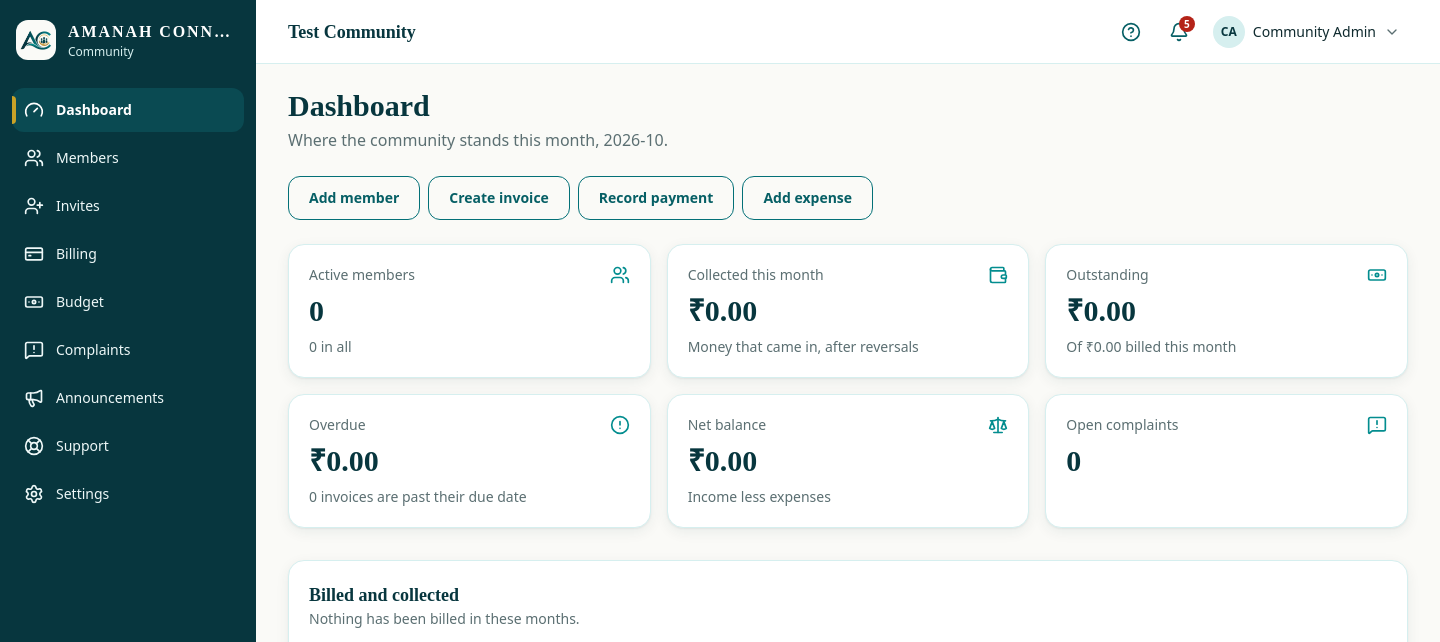
Scenario: Community shell › counts new registrations and announcements on the bell, and lists them
Click the button named "Notifications, 5 unread" at x=1179, y=32, box [1157,10,1201,54]
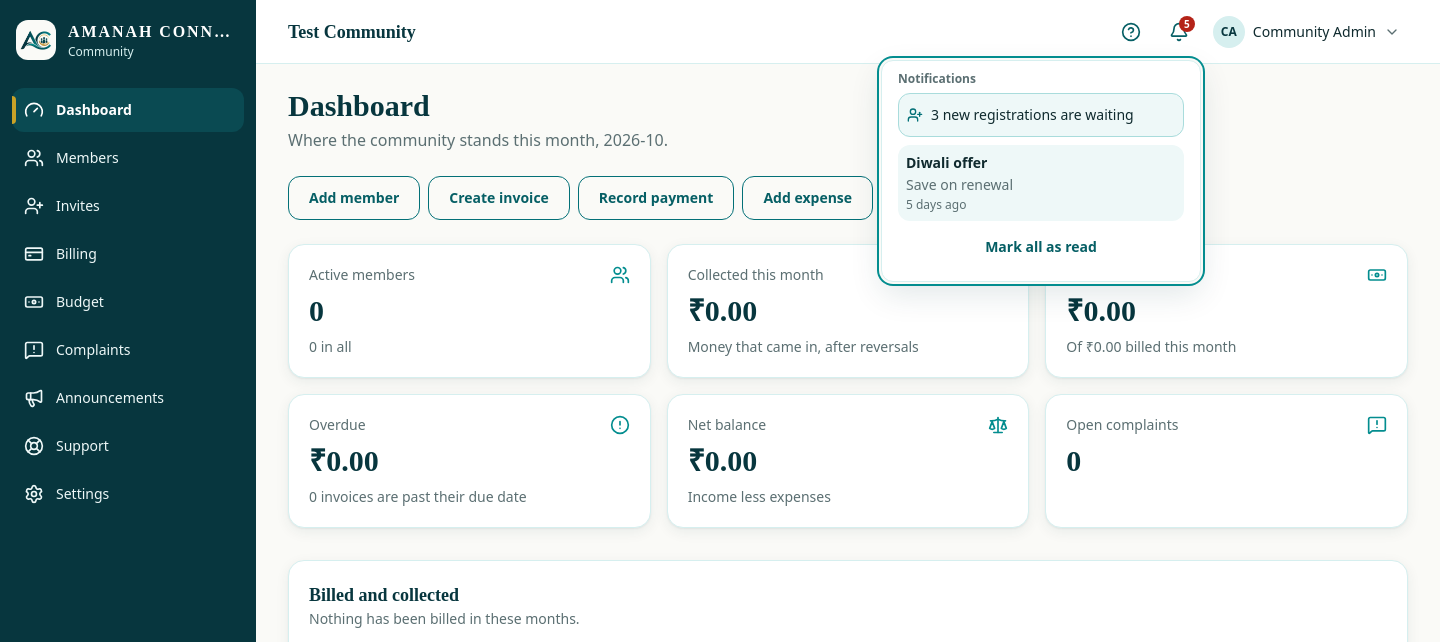
Expected: the text "Diwali offer" is shown, [905,152,987,172]
